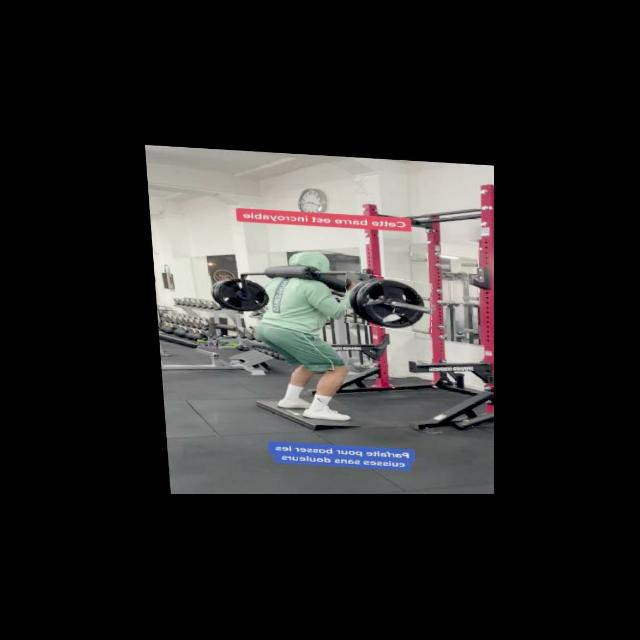barbell: (341, 270, 432, 329)
